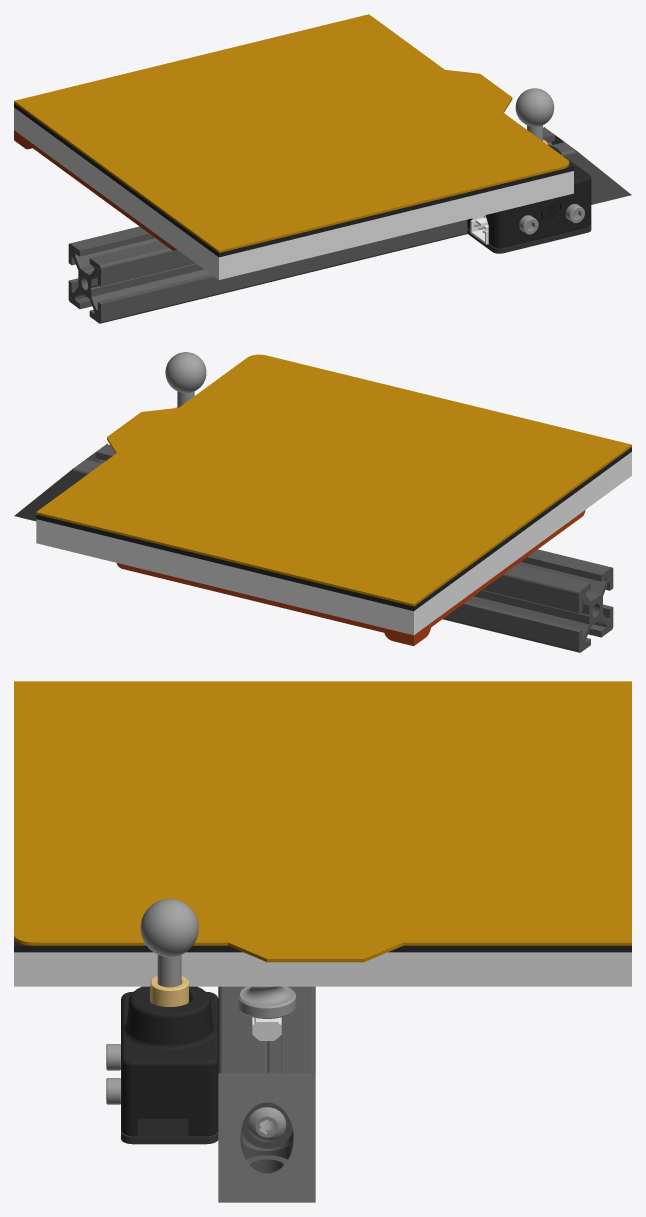
File: Sexball_Probe.gltf
3 renders of one model, top to bottom at view 1: azimuth 30°, elevation 25°; view 2: azimuth 150°, elevation 25°; view 3: azimuth 270°, elevation 25°, orthographic. The views are drawn at different scales.
Parts seen in each view (by area): view 1: Flex Sheet, HFSB5-2020-370-TPW (9), 10in MIC6 Plate, Endstop Block, Magnet Sheet, Ball, 90deg Corner (OpenBuilds), Bed heater, SOLID; view 2: Flex Sheet, 10in MIC6 Plate, HFSB5-2020-370-TPW (9), Magnet Sheet, Bed heater, Ball, 90deg Corner (OpenBuilds); view 3: Flex Sheet, 10in MIC6 Plate, Endstop Block, 90deg Corner (OpenBuilds), HFSB5-2020-370-TPW (9), Magnet Sheet, Ball, M4 Knurled Nut DIN 466-B, M5x16 BHCS (21), 8x10x5mm Bushing, SOLID, Shaft.
Part boxes in pixels (x1,y1,x2,y2): Flex Sheet: [14, 14, 569, 252]; HFSB5-2020-370-TPW (9): [68, 127, 575, 323]; 10in MIC6 Plate: [14, 107, 573, 279]; Endstop Block: [467, 145, 591, 248]; Magnet Sheet: [14, 103, 573, 257]; Ball: [515, 88, 554, 126]; 90deg Corner (OpenBuilds): [543, 127, 631, 204]; Bed heater: [14, 130, 177, 250]; SOLID: [467, 225, 591, 253]; Flex Sheet: [36, 354, 631, 606]; 10in MIC6 Plate: [36, 452, 631, 635]; HFSB5-2020-370-TPW (9): [73, 444, 613, 652]; Magnet Sheet: [36, 447, 631, 610]; Bed heater: [116, 510, 585, 646]; Ball: [165, 352, 206, 393]; 90deg Corner (OpenBuilds): [14, 443, 107, 521]; Flex Sheet: [14, 681, 631, 962]; 10in MIC6 Plate: [14, 952, 631, 986]; Endstop Block: [121, 986, 218, 1136]; 90deg Corner (OpenBuilds): [218, 1073, 315, 1202]; HFSB5-2020-370-TPW (9): [218, 986, 315, 1073]; Magnet Sheet: [14, 938, 631, 952]; Ball: [140, 899, 198, 957]; M4 Knurled Nut DIN 466-B: [238, 986, 296, 1018]; M5x16 BHCS (21): [247, 1107, 286, 1141]; 8x10x5mm Bushing: [150, 976, 188, 1006]; SOLID: [121, 1131, 218, 1144]; Shaft: [157, 954, 181, 987].
Bounding box in the file's own units: 0.19 × 0.0496 × 0.127.
